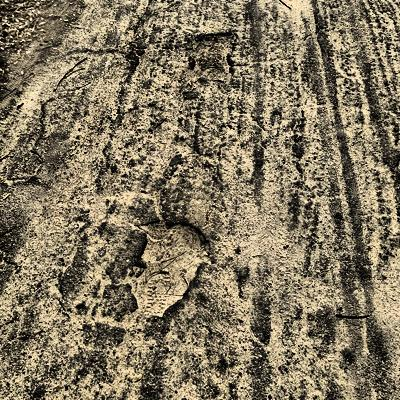pothole: (123, 214, 212, 320), (184, 30, 238, 84)
